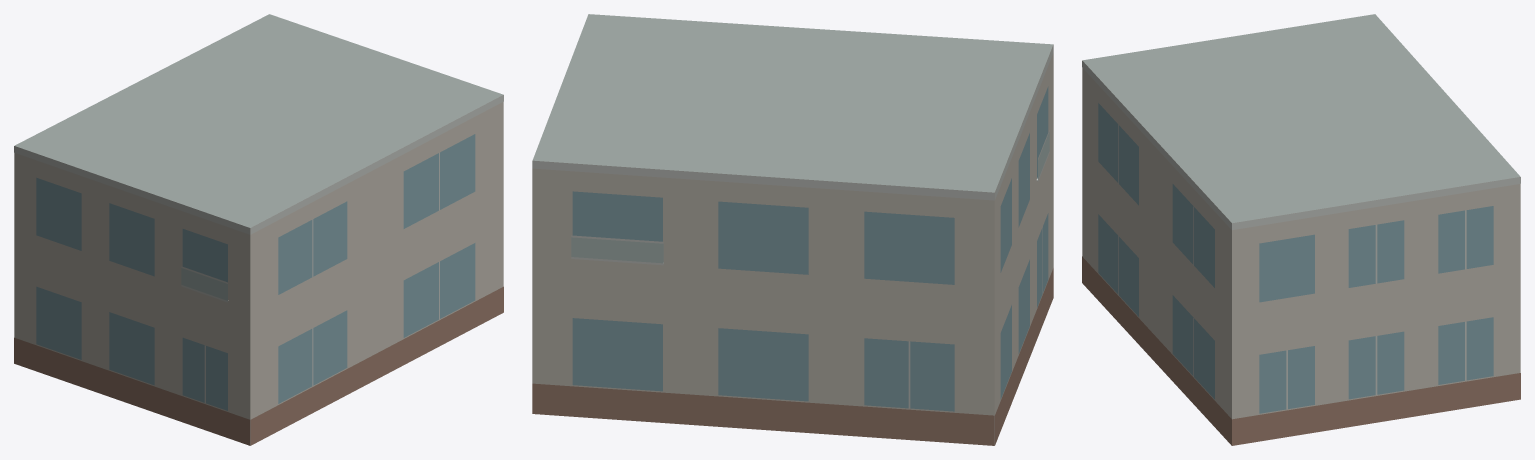
File: survey-upis-32842487.glb
3 views of the same model, side by side, from view 1: azimuth 30°, elevation 25°; view 2: azimuth 150°, elevation 25°; view 3: azimuth 270°, elevation 25° (orthographic). The views are drawn at different scales.
Visible parts, largest first — view 1: survey-upis-32842487.tmp; view 2: survey-upis-32842487.tmp; view 3: survey-upis-32842487.tmp.
Boxes of the visible parts, bbox=[...] form: survey-upis-32842487.tmp: bbox=[14, 14, 503, 445]; survey-upis-32842487.tmp: bbox=[532, 14, 1053, 445]; survey-upis-32842487.tmp: bbox=[1082, 14, 1520, 445].
Bounding box in the file's own units: 15.73 × 7.8 × 13.94.
